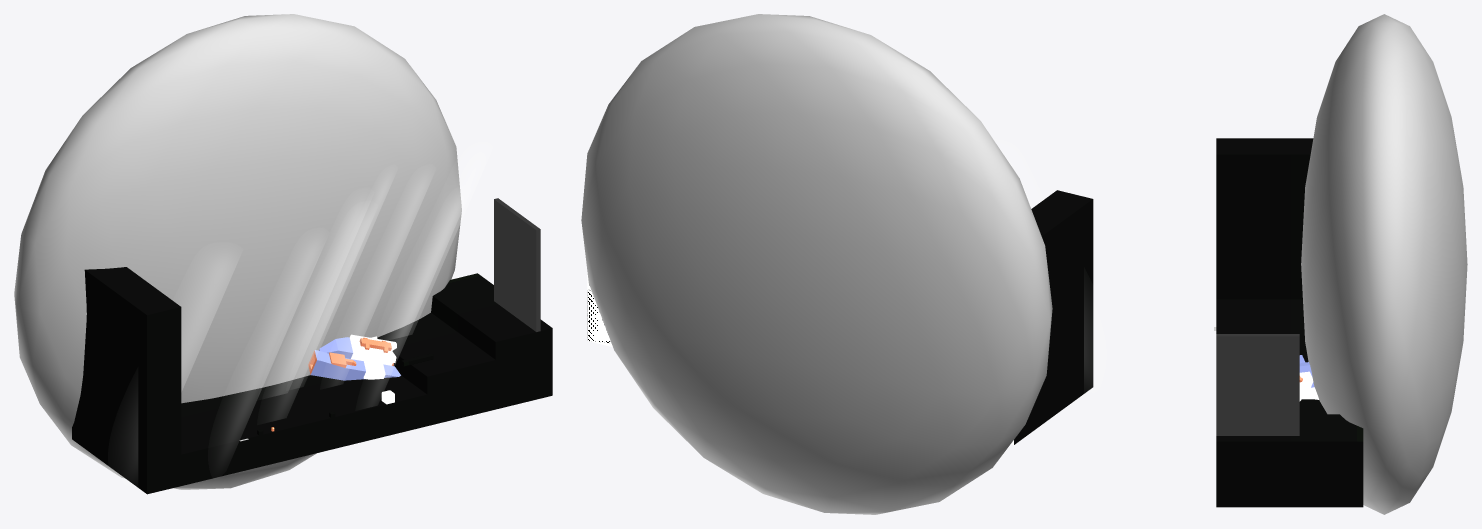
The model's file is level_03.glb.
The picture shows the model from 3 angles, left to right: view 1: azimuth 30°, elevation 25°; view 2: azimuth 150°, elevation 25°; view 3: azimuth 270°, elevation 25°; orthographic projection. The views are drawn at different scales.
Parts seen in each view (by area): view 1: glow.001, ground.008, light-ray.005, goal_sensor.004, craft_cargoB; view 2: glow.001, ground.008; view 3: glow.001, ground.008, goal_sensor.004, craft_cargoB.
Boxes of the visible parts, <box> form: glow.001: <box>14,14,461,489</box>; ground.008: <box>72,267,552,494</box>; light-ray.005: <box>181,152,485,439</box>; goal_sensor.004: <box>494,198,540,331</box>; craft_cargoB: <box>308,334,400,380</box>; glow.001: <box>581,14,1052,514</box>; ground.008: <box>587,190,1093,444</box>; glow.001: <box>1301,14,1467,514</box>; ground.008: <box>1216,138,1363,507</box>; goal_sensor.004: <box>1216,334,1299,435</box>; craft_cargoB: <box>1299,355,1318,401</box>.
Bounding box in the file's own units: 116 × 104 × 53.58.
Materials: 3 (3 with a texture image).
